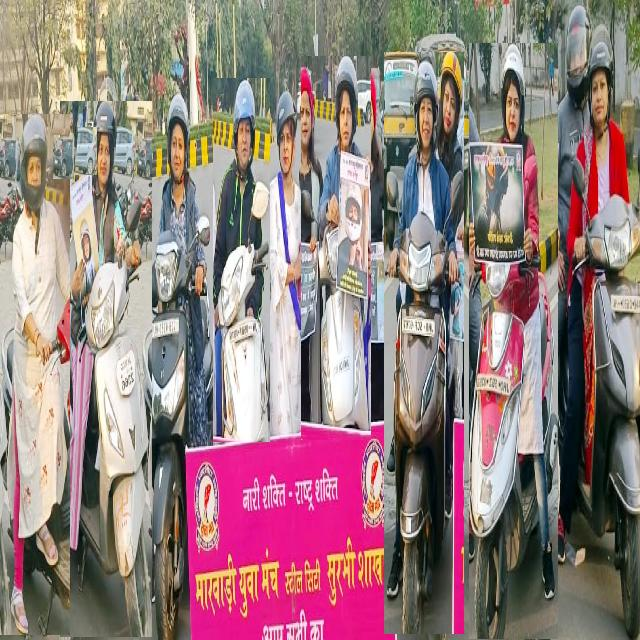autorickshaw: (414, 35, 470, 248)
car: (76, 127, 97, 175), (54, 135, 74, 179)
motorcycle: (546, 4, 640, 635), (470, 43, 558, 639), (60, 101, 152, 637), (385, 52, 464, 634), (140, 96, 215, 640), (0, 114, 70, 635), (301, 57, 371, 440), (213, 79, 270, 442)
